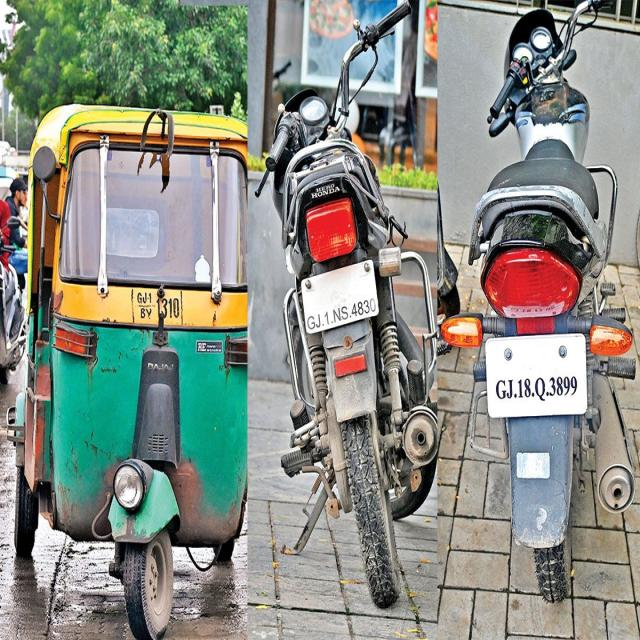plate: (482, 329, 593, 429), (300, 252, 384, 341), (127, 280, 185, 331)
